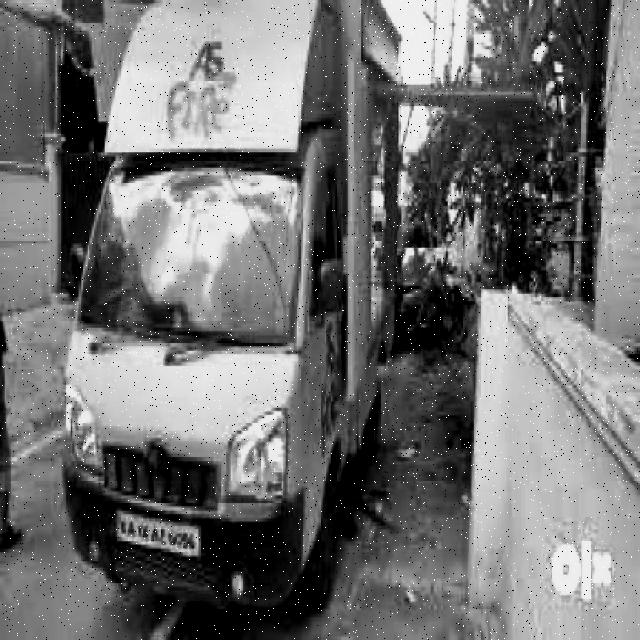LCV: (76, 19, 384, 598)
